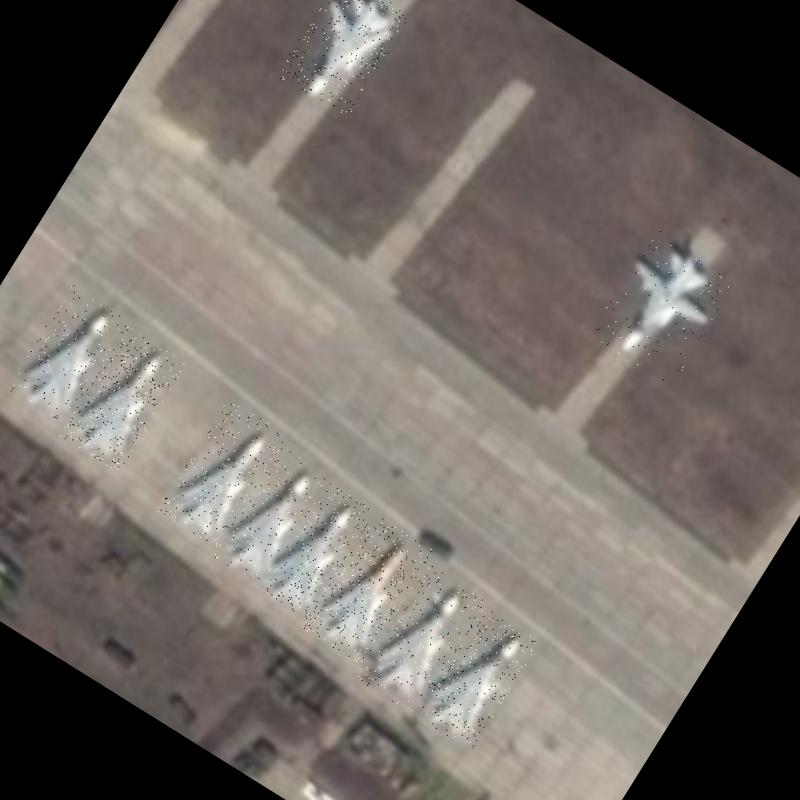A20: (586, 225, 740, 388), (301, 513, 433, 666), (407, 602, 540, 752), (354, 562, 485, 714), (157, 399, 288, 550), (59, 326, 187, 472), (207, 444, 332, 588), (6, 284, 132, 426), (255, 480, 377, 622), (275, 0, 411, 120)
